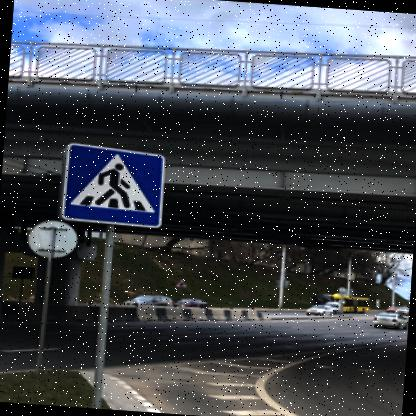crosswalk: (58, 140, 166, 227)
